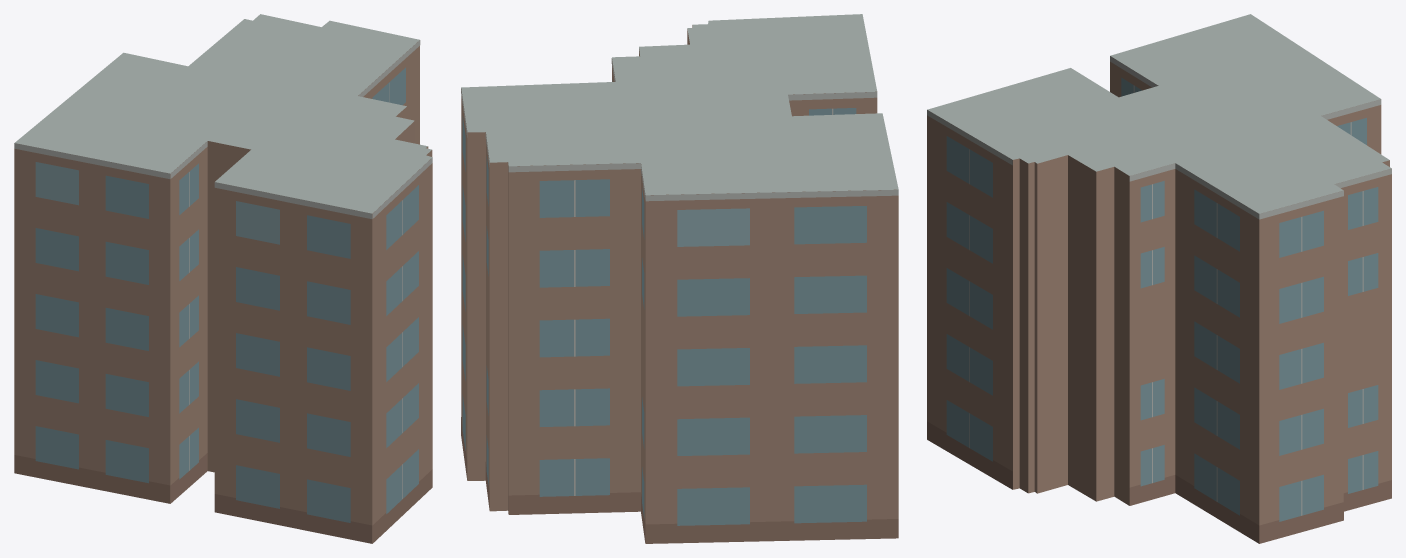
The model's file is survey-upis-32658345.glb.
The picture shows the model from 3 angles, left to right: view 1: azimuth 30°, elevation 25°; view 2: azimuth 150°, elevation 25°; view 3: azimuth 270°, elevation 25°; orthographic projection. The views are drawn at different scales.
Parts seen in each view (by area): view 1: survey-upis-32658345.tmp; view 2: survey-upis-32658345.tmp; view 3: survey-upis-32658345.tmp.
Part boxes in pixels (x1=…): survey-upis-32658345.tmp: x1=14, y1=14, x2=432, y2=543; survey-upis-32658345.tmp: x1=461, y1=14, x2=898, y2=543; survey-upis-32658345.tmp: x1=927, y1=14, x2=1391, y2=543.
Bounding box in the file's own units: 18.46 × 14.2 × 18.13.
